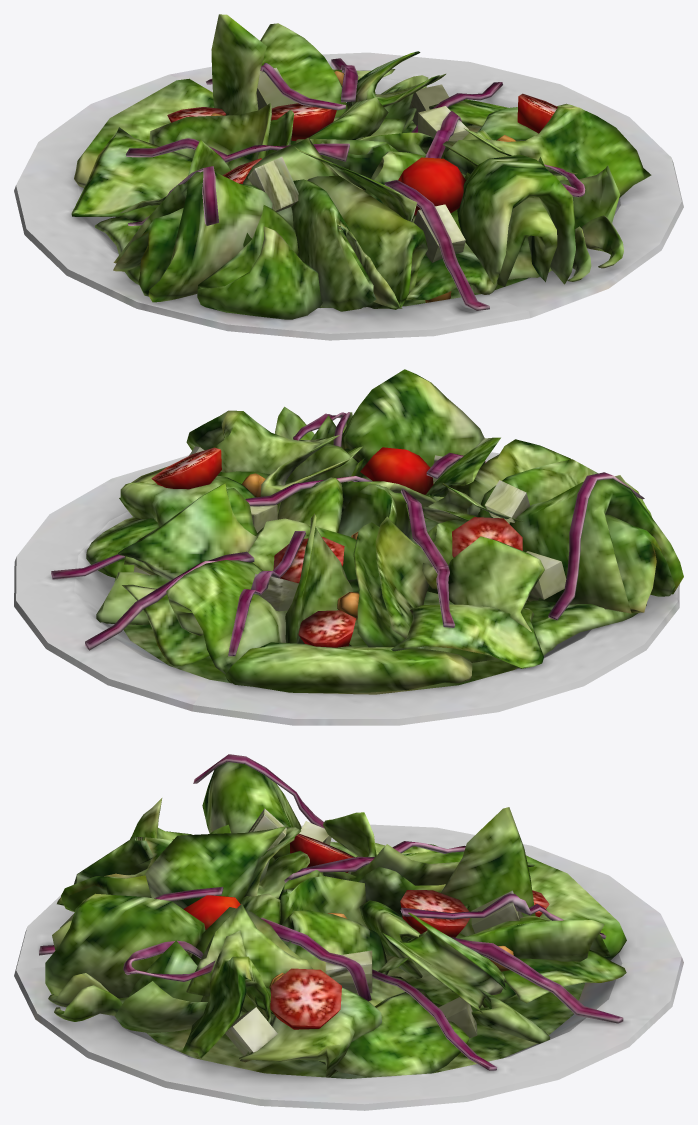
The model's file is salad.glb.
3 renders of one model, top to bottom at view 1: azimuth 30°, elevation 25°; view 2: azimuth 150°, elevation 25°; view 3: azimuth 270°, elevation 25°, orthographic.
Parts seen in each view (by area): view 1: Salad_0; view 2: Salad_0; view 3: Salad_0.
Boxes of the visible parts, <box> form: Salad_0: <box>14,14,683,340</box>; Salad_0: <box>14,369,683,725</box>; Salad_0: <box>14,754,683,1110</box>.
Size of the model in its own units: 0.1631 by 0.0426 by 0.1631.
Materials: 6 (6 with a texture image).
